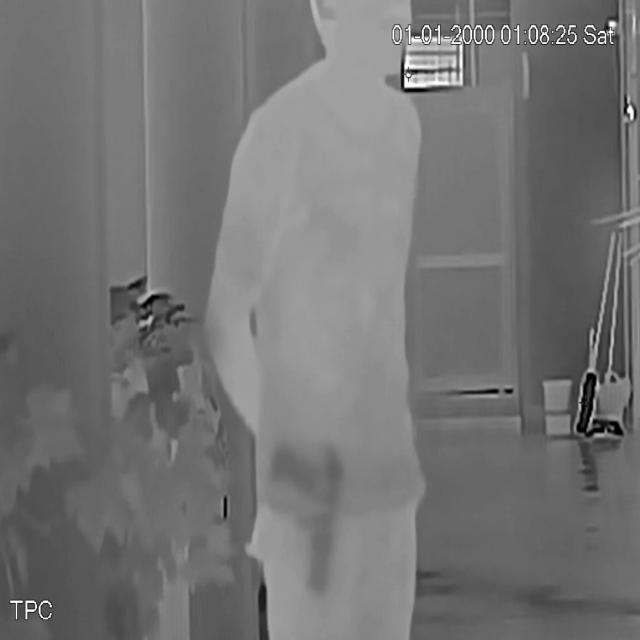Weapon: (260, 414, 352, 595)
